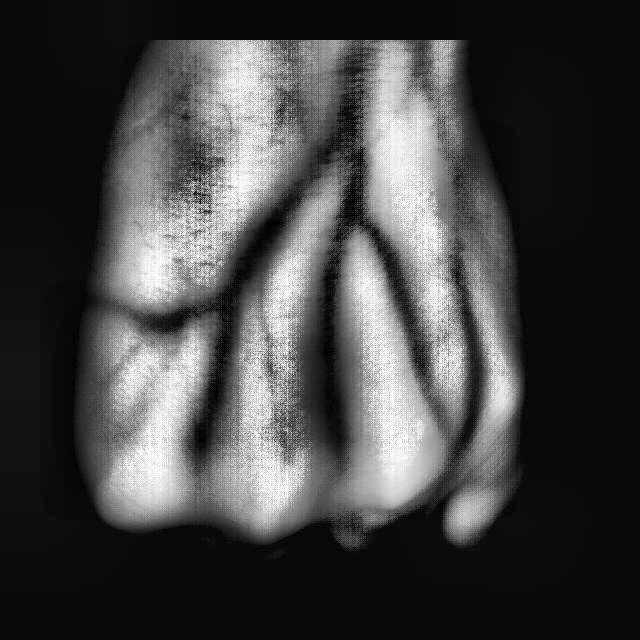Vein: (221, 97, 369, 288), (320, 211, 354, 409)
